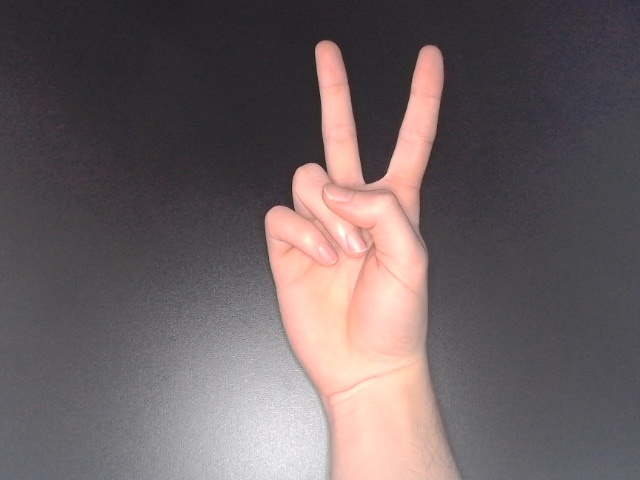v: (258, 35, 450, 414)
